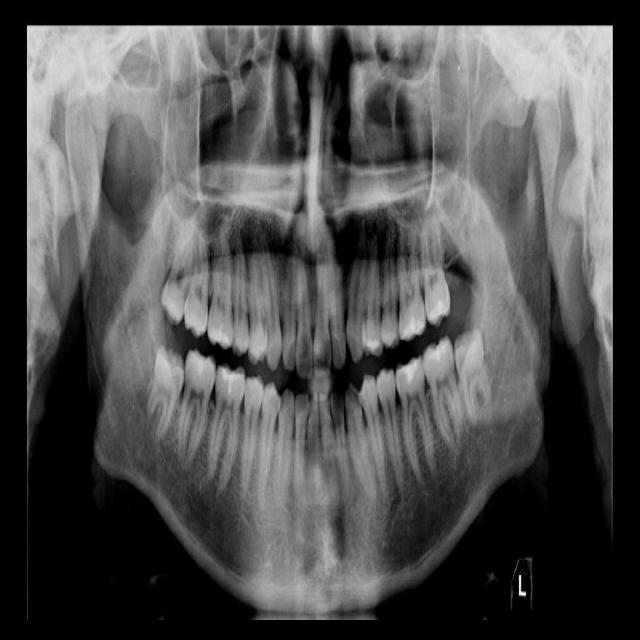3M ESPE Implant: (157, 221, 200, 328)
52: (412, 334, 462, 382), (184, 346, 218, 392), (396, 299, 428, 344), (393, 355, 427, 397), (213, 361, 249, 400), (423, 282, 452, 329), (207, 307, 233, 351), (361, 317, 385, 358)
73: (618, 610, 629, 618)
BioHorizons Implant: (415, 206, 453, 330)
Biomet 3i Implant: (449, 327, 497, 428)
Blue Sky Bio Implant: (418, 334, 469, 454)
Caries: (183, 228, 211, 339)
Implant: (173, 347, 219, 468)
Keystone Dental Implant: (140, 343, 190, 445)
